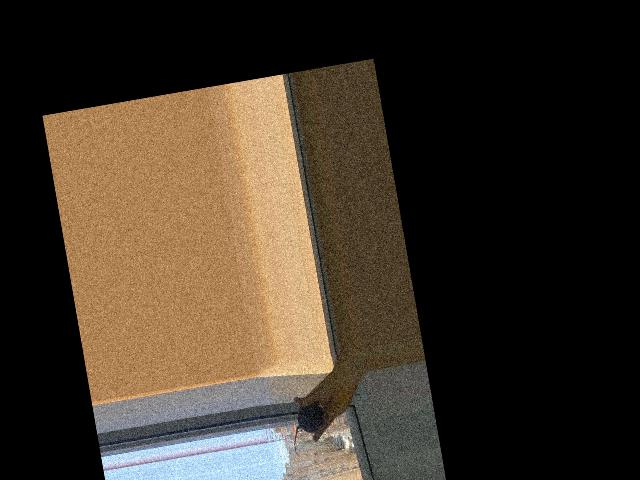beet: (287, 403, 330, 458)
